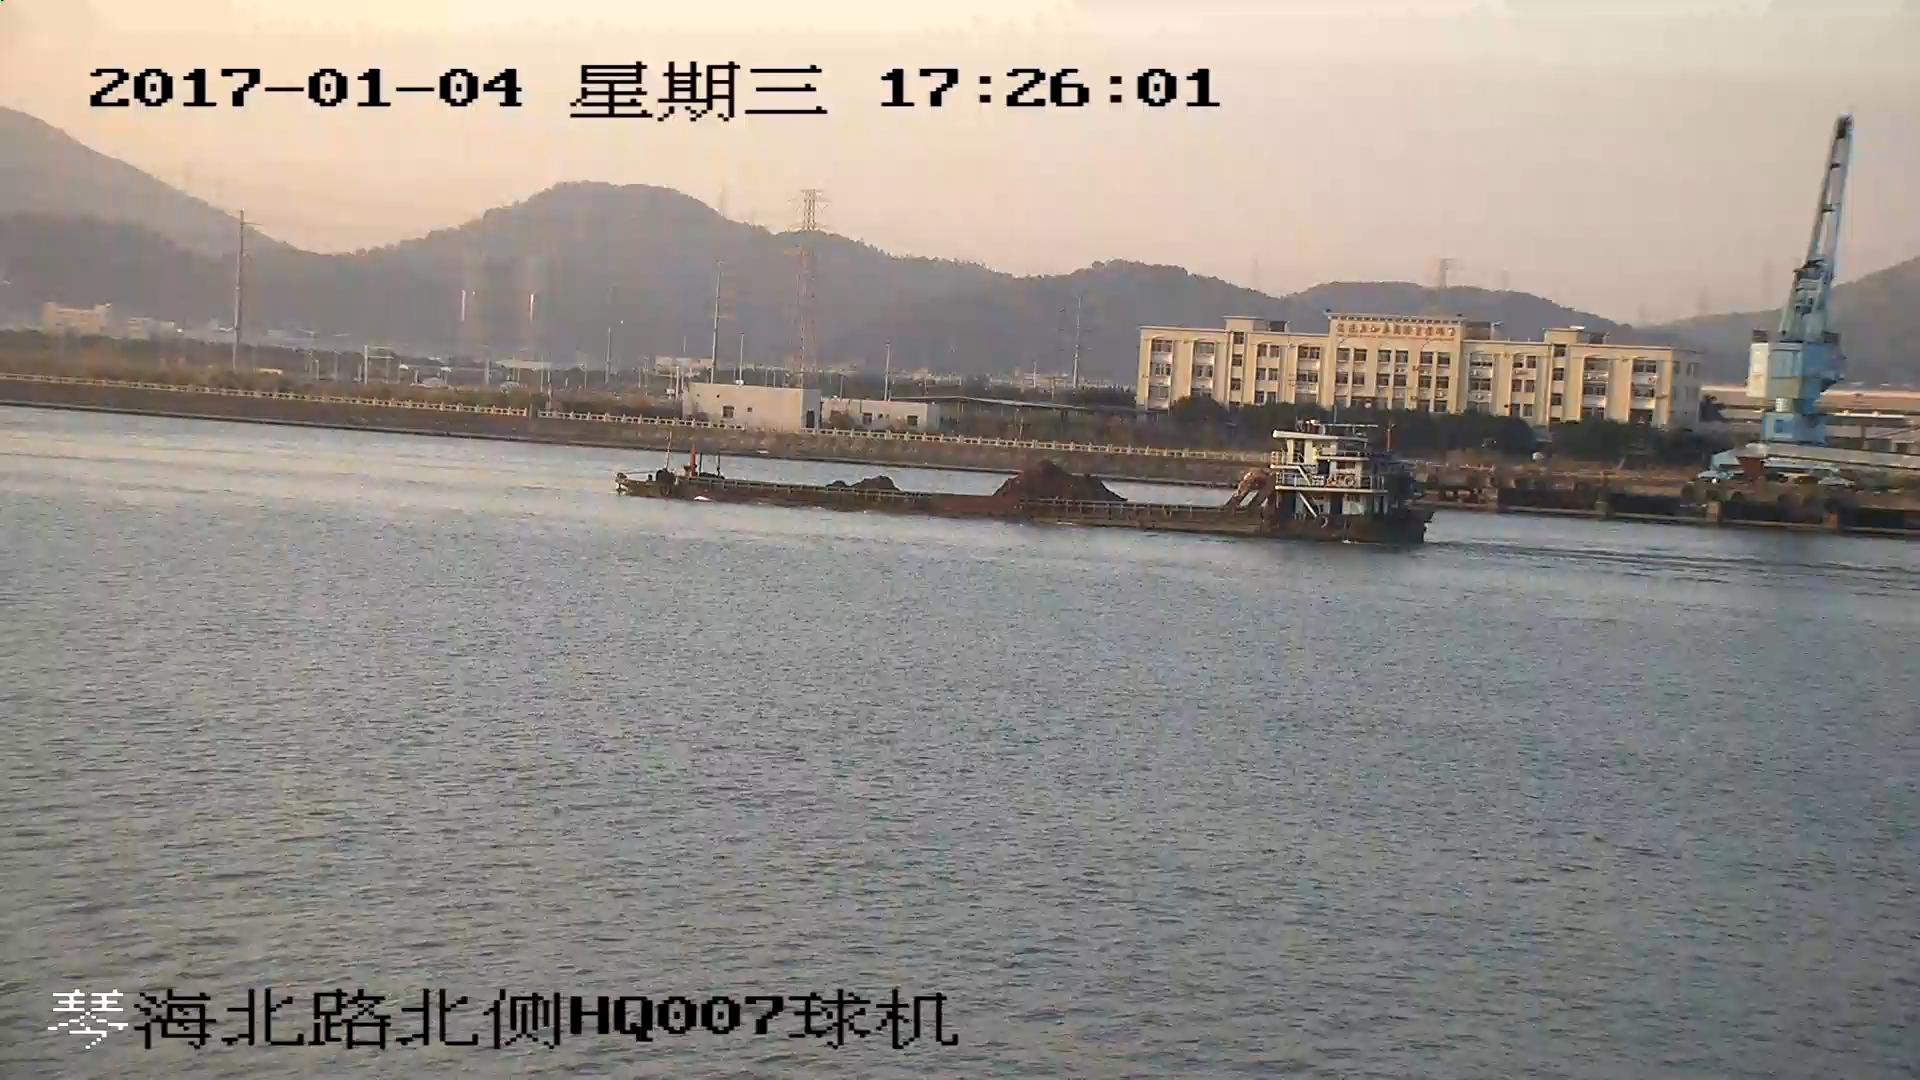ore carrier: (618, 432, 1429, 546)
